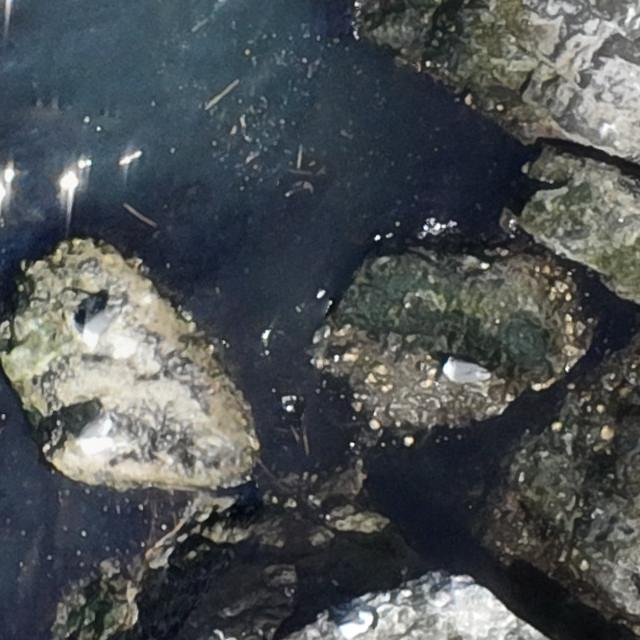umineko: (80, 298, 130, 342), (332, 602, 382, 638), (438, 354, 488, 385)
